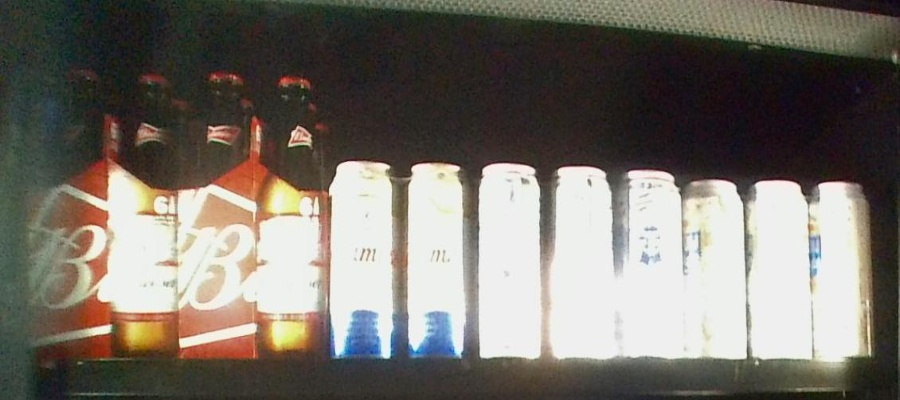bottle: (177, 68, 331, 363), (470, 160, 682, 363), (29, 67, 175, 360), (683, 178, 878, 360), (337, 158, 467, 355)
